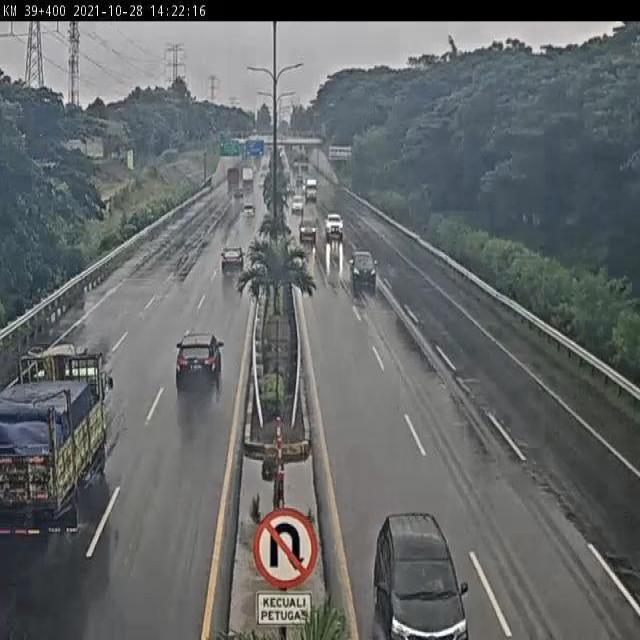car: (369, 509, 475, 640), (174, 331, 225, 393), (348, 251, 376, 285), (219, 241, 246, 276)
truck-l-: (0, 340, 118, 545)
